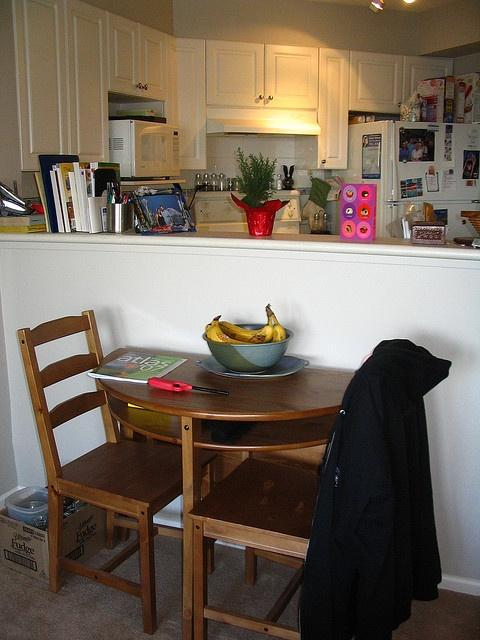Kursi: (189, 337, 419, 638), (17, 308, 185, 634)
Lemari: (7, 0, 110, 173), (205, 38, 319, 109), (105, 9, 167, 102)
